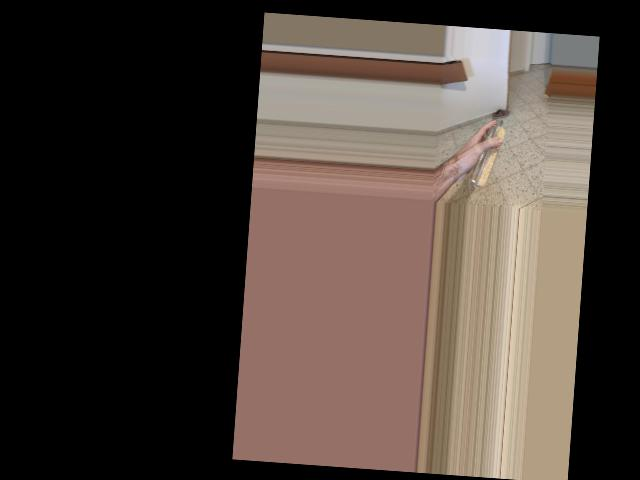cheese: (453, 113, 514, 182)
